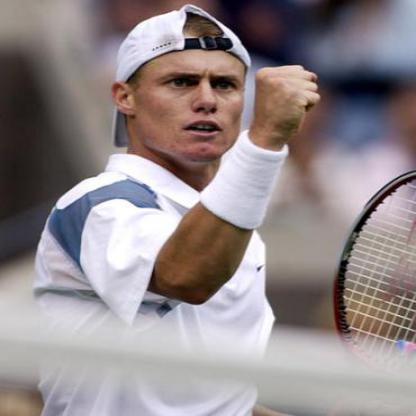face: (133, 14, 259, 166)
